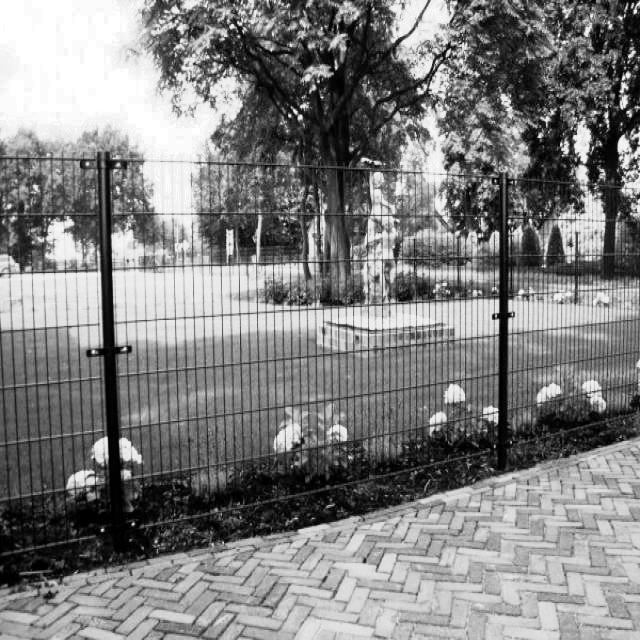fences: (15, 159, 640, 465)
